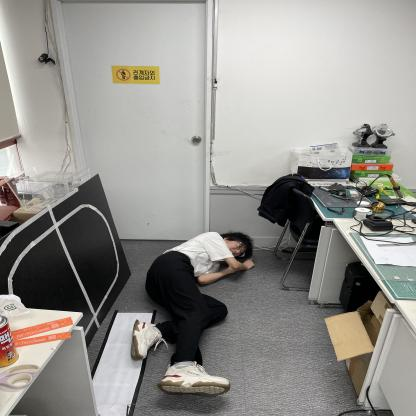fall: (137, 227, 258, 399)
